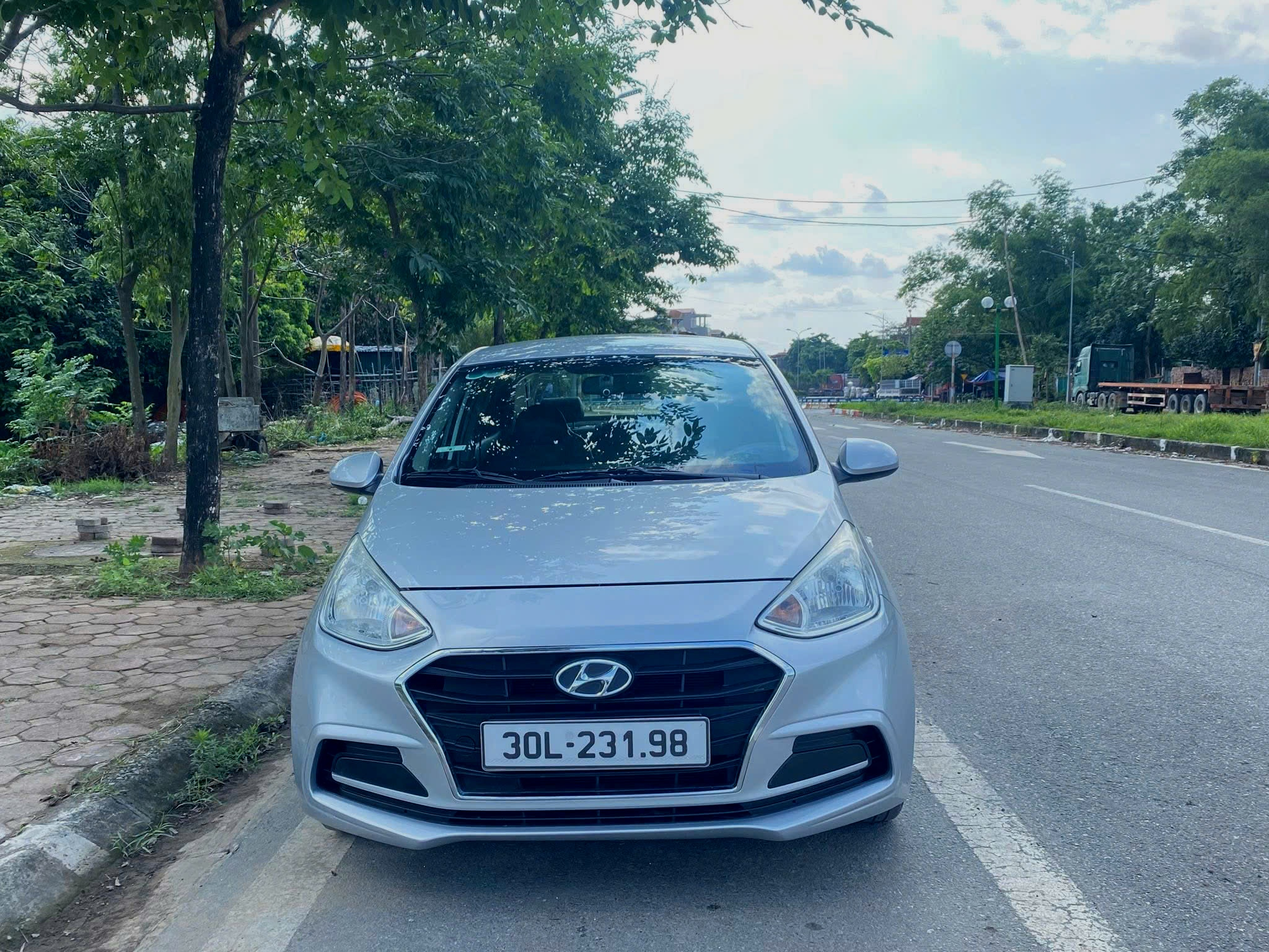Bien-so: (535, 746, 750, 806)
